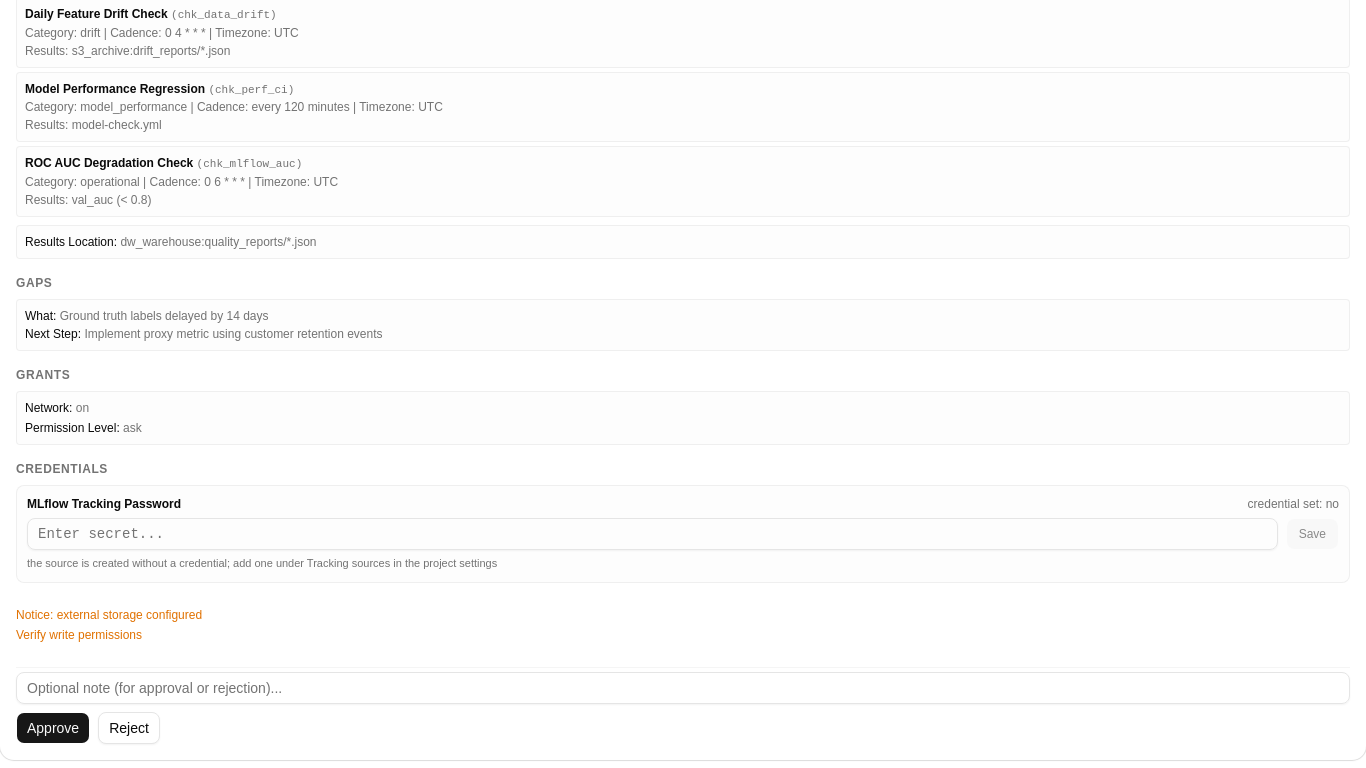
Test: HandoffProposalCard › clears input on failed save and displays error alert
The image size is (1366, 768).
(page scrolled)
Type "bad-secret-token" into the password field labelled "MLflow Tracking Password" at (652,534), box top-left (27, 518), bottom-right (1278, 550)
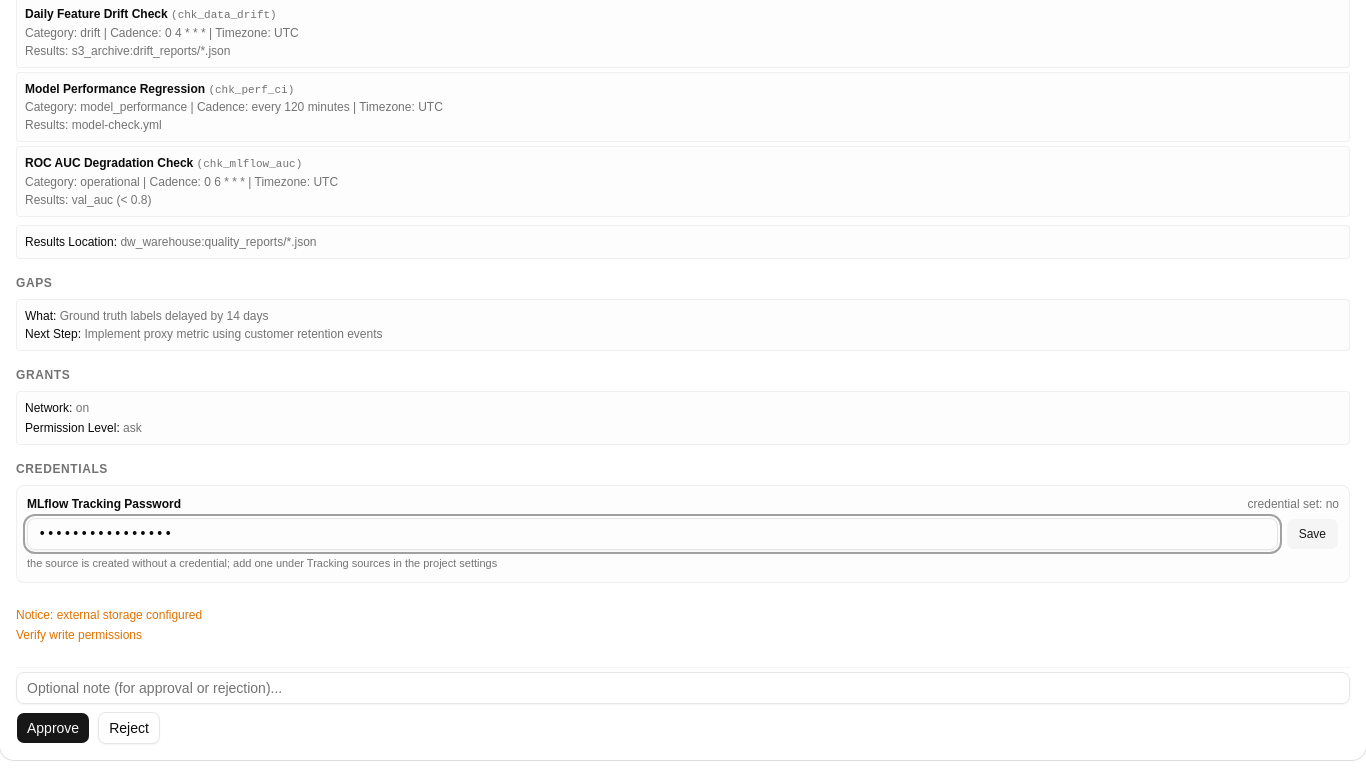
Click the button "Save" at (1312,534), box top-left (1286, 518), bottom-right (1339, 550)
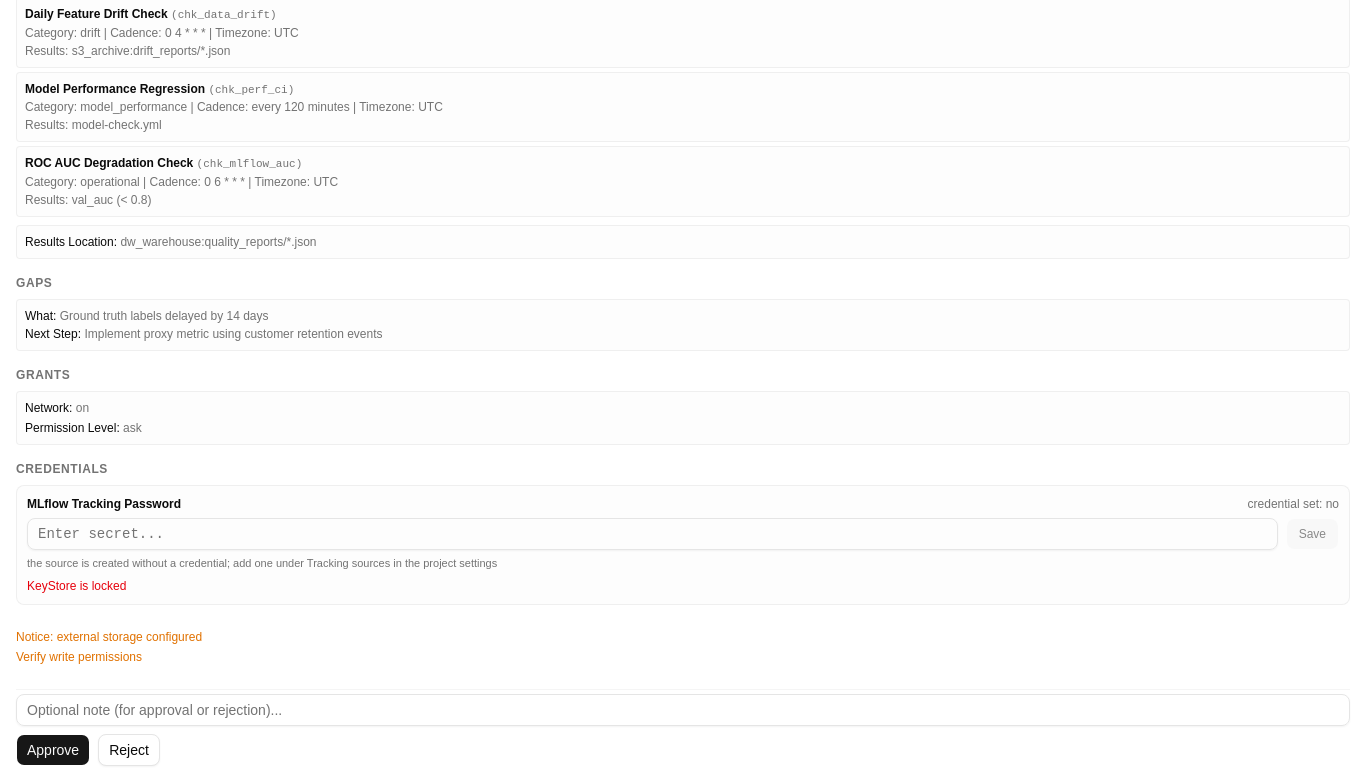
Check: the password field labelled "MLflow Tracking Password" is empty, box top-left (27, 518), bottom-right (1278, 550)
Check: the message reads "KeyStore is locked", box top-left (27, 579), bottom-right (126, 593)
